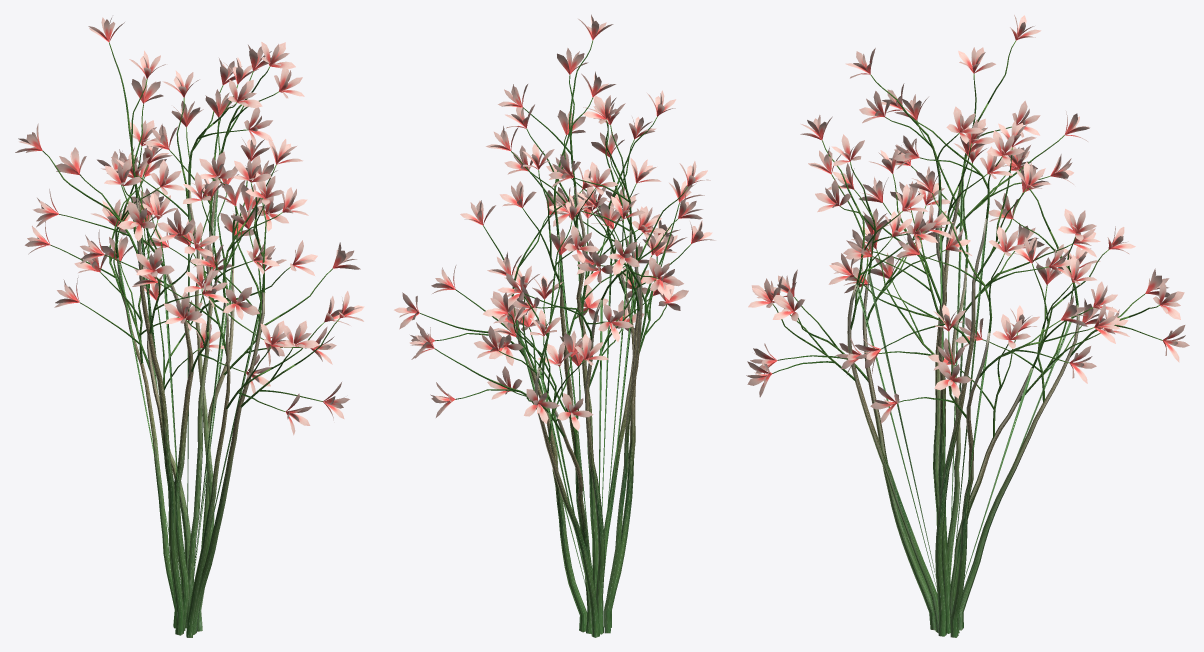
Rendered from ceramicFlowerVase_edit_for_FBX.fbx.
3 renders of one model, left to right at view 1: azimuth 30°, elevation 25°; view 2: azimuth 150°, elevation 25°; view 3: azimuth 270°, elevation 25°, orthographic. The views are drawn at different scales.
Parts seen in each view (by area): view 1: plants01; view 2: plants01; view 3: plants01.
Part boxes in pixels (x1=…): plants01: x1=15, y1=17, x2=364, y2=637; plants01: x1=394, y1=14, x2=715, y2=637; plants01: x1=746, y1=15, x2=1189, y2=637.
Size of the model in its own units: 137 by 271 by 181.
